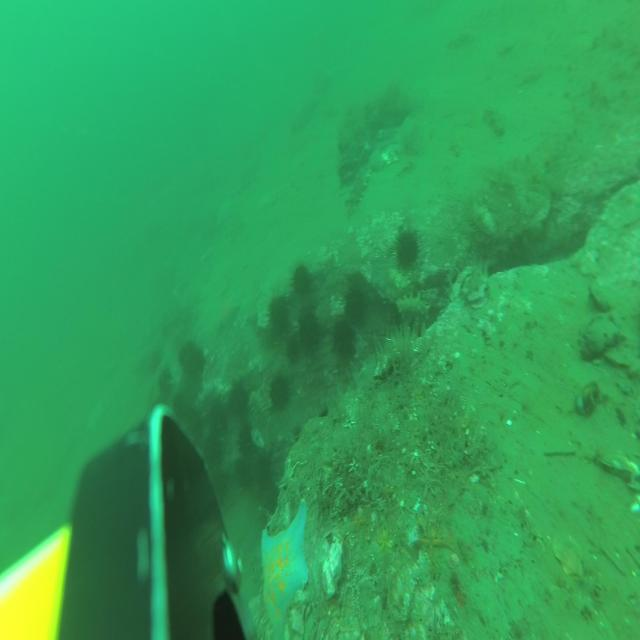echinus: (392, 229, 420, 272), (332, 317, 356, 362), (268, 295, 291, 340), (291, 260, 313, 303), (300, 304, 321, 348), (180, 338, 202, 378), (342, 288, 365, 326), (268, 374, 290, 412), (204, 396, 226, 434), (229, 378, 248, 419), (204, 432, 224, 465), (317, 407, 335, 440), (285, 327, 301, 362), (156, 368, 174, 399), (260, 478, 278, 508), (234, 460, 252, 490), (252, 453, 270, 480), (188, 406, 202, 439), (238, 423, 252, 455), (173, 391, 187, 422)
holothurian: (346, 162, 372, 218), (396, 293, 430, 329), (250, 390, 271, 428), (483, 106, 505, 140), (447, 29, 473, 52), (450, 133, 461, 159)
scallop: (554, 532, 584, 577), (498, 33, 518, 54), (381, 143, 400, 165)
starfish: (261, 495, 306, 640), (417, 514, 452, 568), (218, 300, 239, 334), (377, 527, 395, 553), (353, 509, 365, 533)
